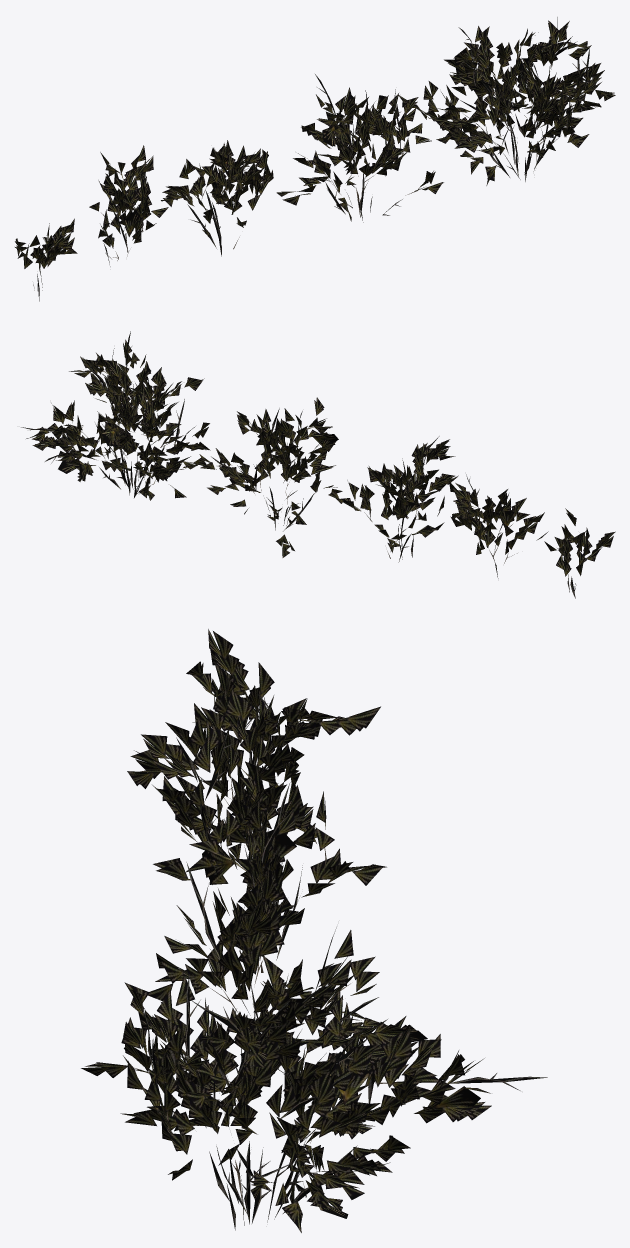
The model's file is rooibos_lod1.glb.
3 views of the same model, one above another, from view 1: azimuth 30°, elevation 25°; view 2: azimuth 150°, elevation 25°; view 3: azimuth 270°, elevation 25° (orthographic). The views are drawn at different scales.
Visible parts, largest first — view 1: wild_rooibos_bush_a, wild_rooibos_bush_b, wild_rooibos_bush_c, wild_rooibos_bush_d, wild_rooibos_bush_e; view 2: wild_rooibos_bush_a, wild_rooibos_bush_b, wild_rooibos_bush_c, wild_rooibos_bush_d, wild_rooibos_bush_e; view 3: wild_rooibos_bush_a, wild_rooibos_bush_b, wild_rooibos_bush_c, wild_rooibos_bush_d, wild_rooibos_bush_e.
Part boxes in pixels (x1,y1,x2,y2): wild_rooibos_bush_a: (398,17,615,185); wild_rooibos_bush_b: (276,74,443,222); wild_rooibos_bush_c: (161,140,273,256); wild_rooibos_bush_d: (89,145,168,266); wild_rooibos_bush_e: (15,218,77,301); wild_rooibos_bush_a: (21,331,210,500); wild_rooibos_bush_b: (200,397,342,557); wild_rooibos_bush_c: (328,436,458,562); wild_rooibos_bush_d: (449,474,548,578); wild_rooibos_bush_e: (544,508,615,598); wild_rooibos_bush_a: (81,955,547,1232); wild_rooibos_bush_b: (138,782,388,1072); wild_rooibos_bush_c: (127,716,386,972); wild_rooibos_bush_d: (165,662,380,827); wild_rooibos_bush_e: (186,629,277,789).
Bounding box in the file's own units: 2.27 × 0.5325 × 0.8279.
Materials: 2 (2 with a texture image).
